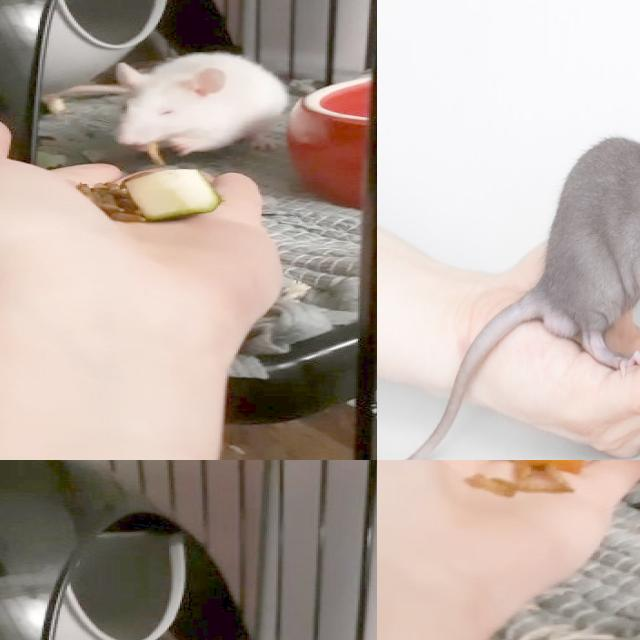rat: (527, 73, 640, 346), (109, 53, 292, 155)
